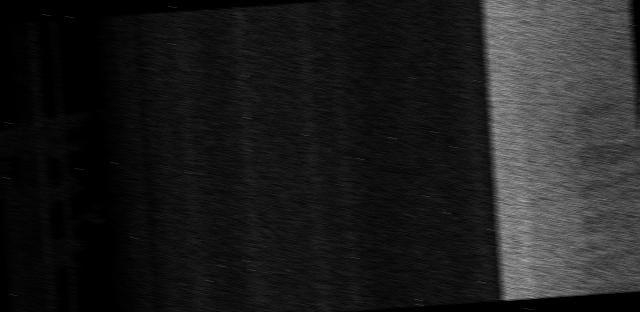water_spot: (537, 83, 640, 296)
